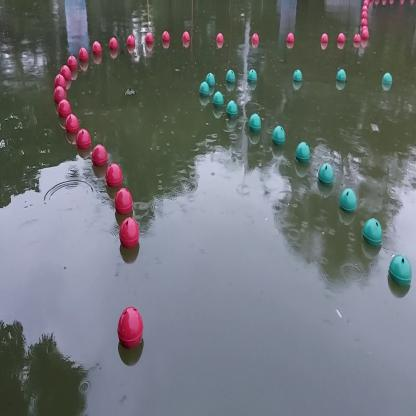green_buoy: (388, 254, 411, 294), (362, 215, 384, 251), (338, 191, 358, 222), (294, 138, 310, 167), (319, 162, 335, 190), (271, 124, 286, 151), (199, 78, 213, 106), (212, 89, 224, 115), (227, 98, 239, 123), (382, 69, 392, 96), (291, 68, 303, 90), (250, 114, 262, 136), (335, 68, 346, 91), (246, 69, 258, 89), (224, 69, 236, 89), (204, 74, 215, 88)
red_buoy: (118, 306, 144, 354), (118, 221, 140, 254), (113, 188, 132, 220), (104, 161, 124, 189), (91, 143, 108, 173), (51, 83, 67, 110), (64, 52, 78, 78), (106, 33, 119, 59), (60, 62, 72, 90), (54, 70, 67, 95), (58, 98, 71, 123), (77, 129, 91, 151), (143, 30, 156, 53), (78, 46, 90, 70), (125, 33, 137, 54), (92, 40, 102, 64), (320, 29, 329, 53), (67, 118, 79, 135), (285, 32, 295, 52), (160, 32, 170, 50), (337, 32, 346, 52), (250, 33, 259, 51), (216, 31, 224, 48), (183, 30, 190, 49), (353, 32, 360, 50), (360, 18, 368, 30), (362, 10, 368, 22), (362, 28, 368, 40), (363, 4, 368, 18)
